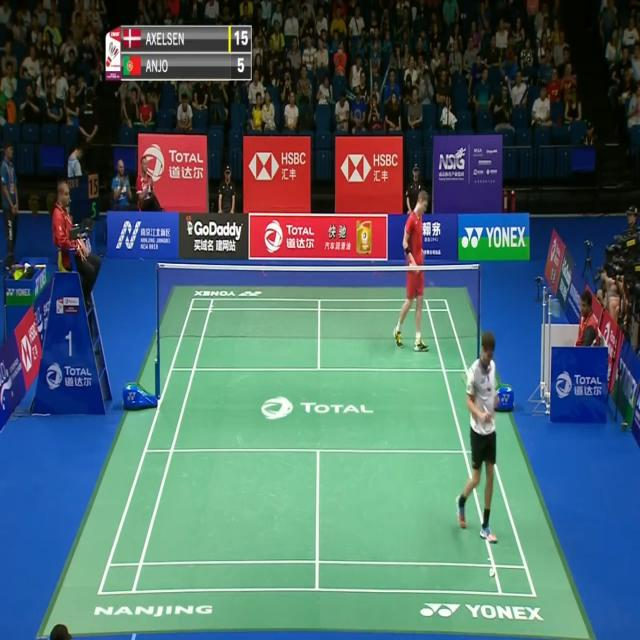Player1: (455, 324, 505, 546)
Player2: (392, 178, 436, 360)
